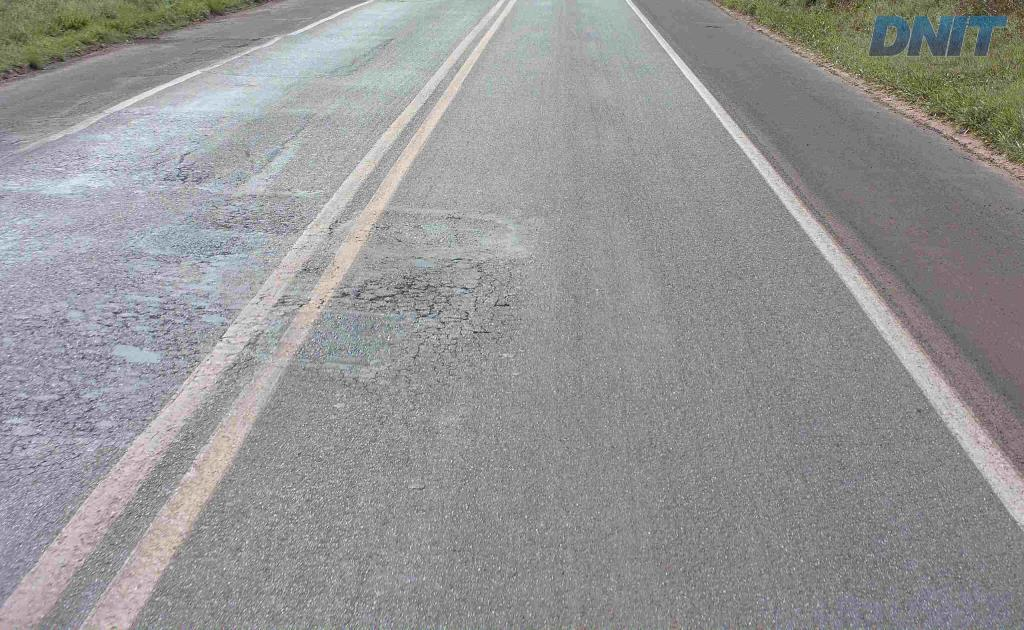crack: (368, 275, 454, 309)
